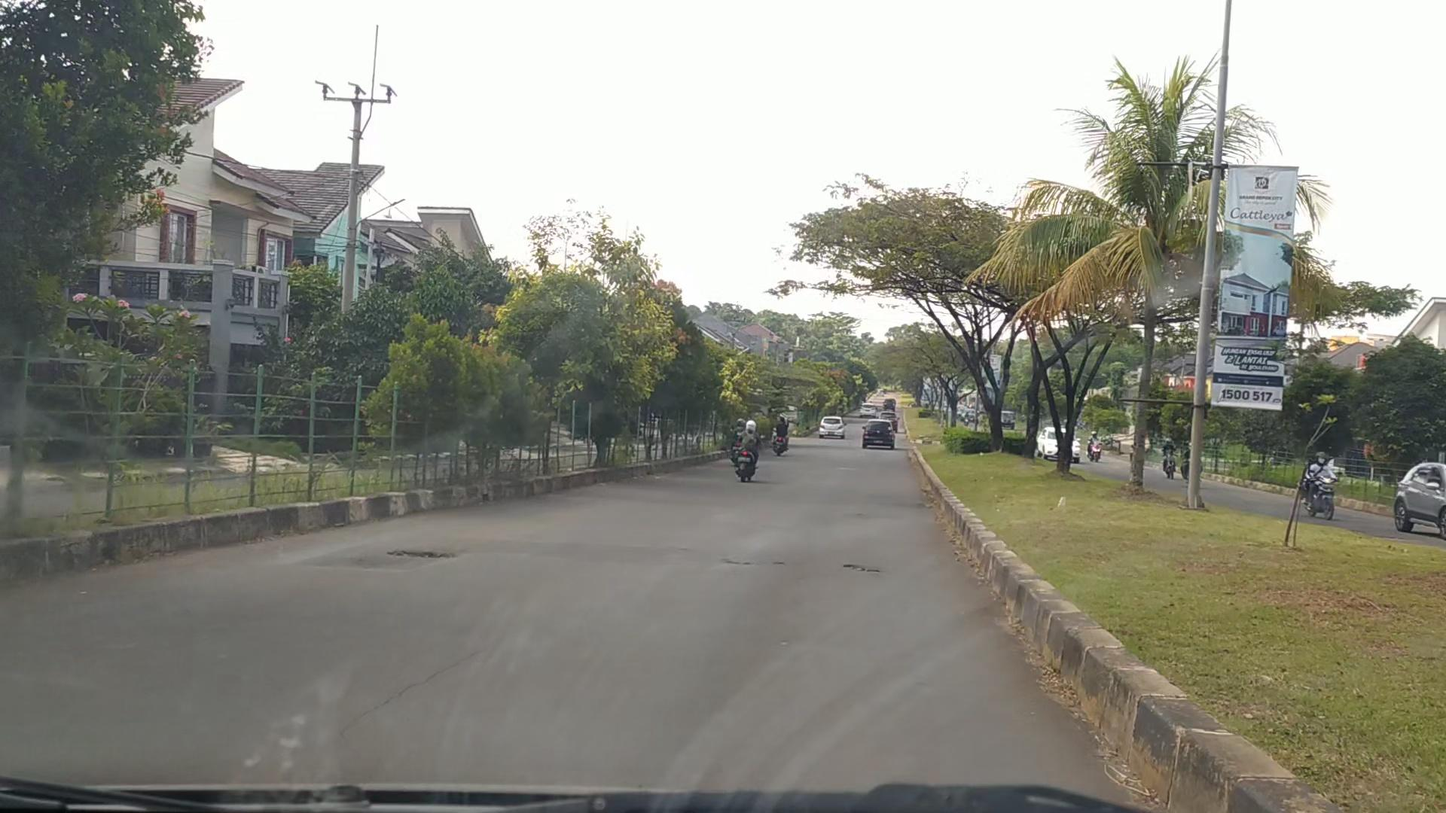pothole: (389, 549, 455, 561), (845, 561, 879, 575)
